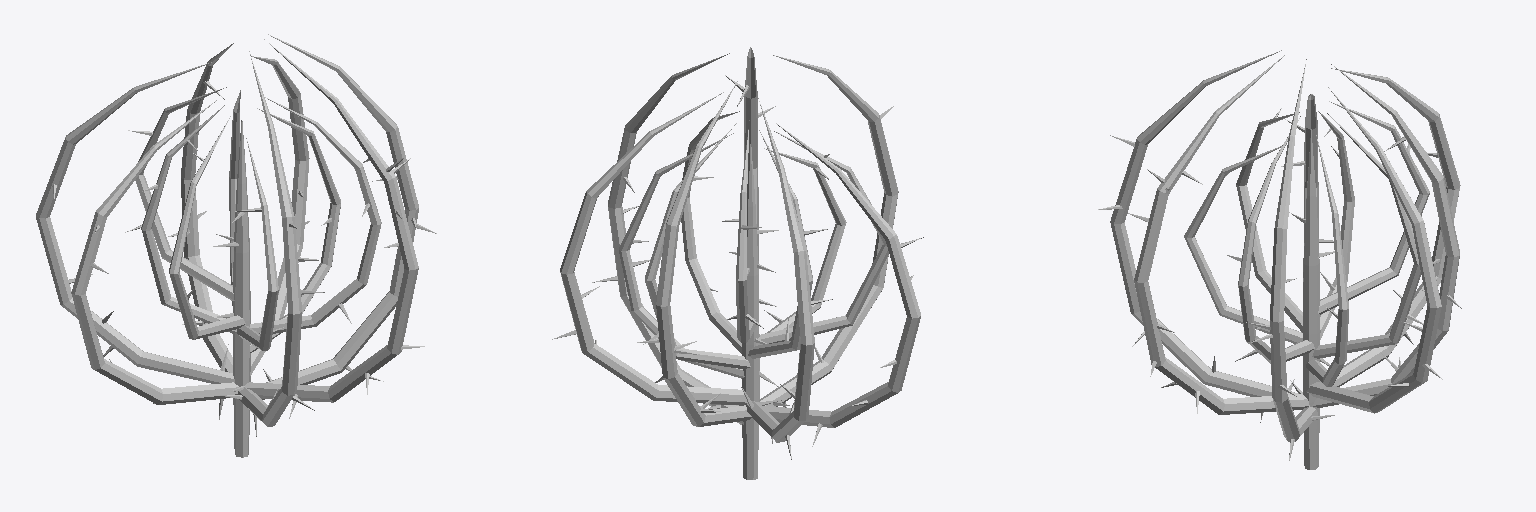
Rendered from TumbleBush.obj.
3 views of the same model, side by side, from view 1: azimuth 30°, elevation 25°; view 2: azimuth 150°, elevation 25°; view 3: azimuth 270°, elevation 25° (orthographic).
Size of the model in its own units: 20.56 by 24.69 by 19.4.